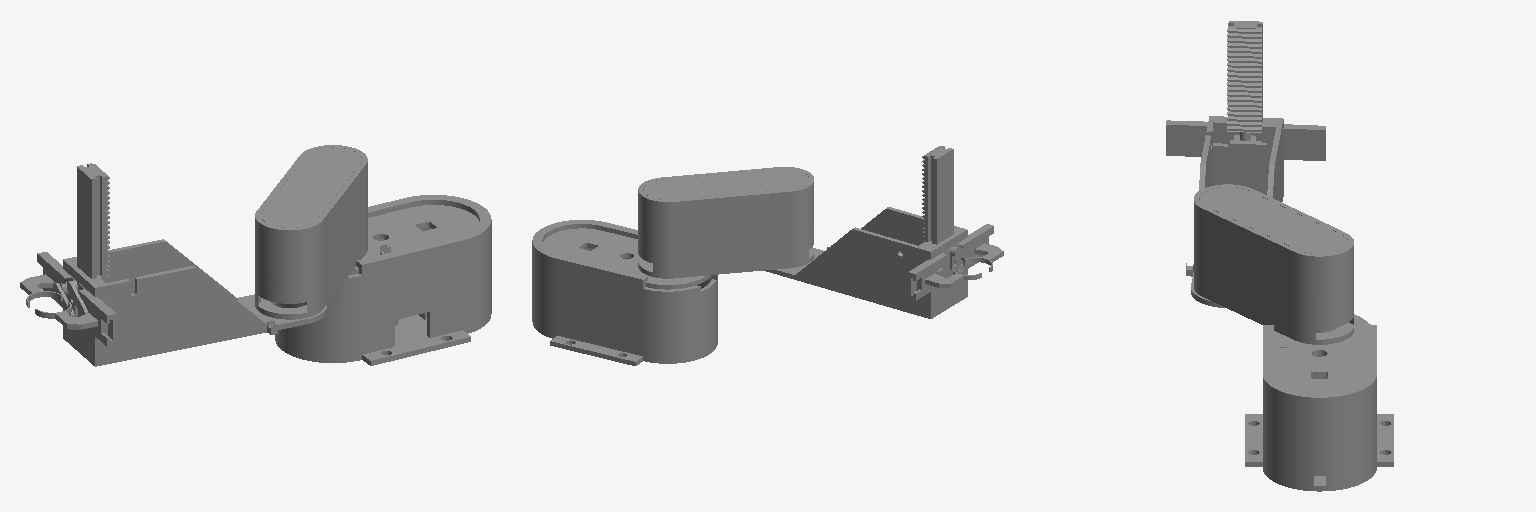
URDF robot description (Robrot):
<?xml version="1.0"?>
<robot name="Robrot">

  <!-- sim:=true  -> Gazebo (gz_ros2_control)   |   sim:=false -> RViz con hardware simulado (mock) -->
  
  

  <!-- Materials (shared across all assemblies) -->
  <material name="Acero">
    <color rgba="0.627 0.627 0.627 1.0"/>
  </material>

  <!-- Assembly includes -->

  <!-- Instantiate assemblies -->
  

    <!-- Links -->
    <link name="base_link">
      <inertial>
        <origin xyz="0.052678 0.037753 -0.000515" rpy="0 0 0"/>
        <mass value="3.116656"/>
        <inertia ixx="7.260591e-03" ixy="-2.850225e-04" ixz="-3.842745e-06"
                 iyy="1.452437e-02" iyz="-4.241836e-05" izz="1.401797e-02"/>
      </inertial>
      <visual>
        <origin xyz="0.000000 0.000000 0.000000" rpy="3.141593 0.000000 3.141593"/>
        <geometry>
          <mesh filename="package://Robrot_description/meshes/base_link/base_link.dae" scale="1 1 1"/>
        </geometry>
        <material name="Acero"/>
      </visual>
      <collision>
        <origin xyz="0.000000 0.000000 0.000000" rpy="3.141593 0.000000 3.141593"/>
        <geometry>
          <mesh filename="package://Robrot_description/meshes/base_link/base_link_collision.stl" scale="0.01 0.01 0.01"/>
        </geometry>
      </collision>
    </link>

  
  

    <!-- Links -->
    <link name="Brazo1_Unido">
      <inertial>
        <origin xyz="-0.043622 -0.039114 -0.034607" rpy="0 0 0"/>
        <mass value="2.006378"/>
        <inertia ixx="4.751628e-03" ixy="-2.249996e-03" ixz="7.159921e-05"
                 iyy="5.243393e-03" iyz="6.420102e-05" izz="6.440291e-03"/>
      </inertial>
      <visual>
        <origin xyz="-0.089343 -0.080111 -0.080300" rpy="1.570796 0.000000 0.730973"/>
        <geometry>
          <mesh filename="package://Robrot_description/meshes/Brazo1_Unido/Brazo1_Unido.dae" scale="1 1 1"/>
        </geometry>
        <material name="Acero"/>
      </visual>
      <collision>
        <origin xyz="-0.089343 -0.080111 -0.080300" rpy="1.570796 0.000000 0.730973"/>
        <geometry>
          <mesh filename="package://Robrot_description/meshes/Brazo1_Unido/Brazo1_Unido_collision.stl" scale="0.01 0.01 0.01"/>
        </geometry>
      </collision>
    </link>

  
  

    <!-- Links -->
    <link name="Brazo_2">
      <inertial>
        <origin xyz="-0.131810 0.010778 -0.057606" rpy="0 0 0"/>
        <mass value="1.598018"/>
        <inertia ixx="1.852850e-03" ixy="3.809434e-04" ixz="9.832691e-04"
                 iyy="6.270689e-03" iyz="-9.262016e-05" izz="6.416990e-03"/>
      </inertial>
      <visual>
        <origin xyz="-0.000043 -0.000011 -0.077300" rpy="-1.570796 0.000000 3.061535"/>
        <geometry>
          <mesh filename="package://Robrot_description/meshes/Robrot/Brazo_2.dae" scale="1 1 1"/>
        </geometry>
        <material name="Acero"/>
      </visual>
      <collision>
        <origin xyz="-0.000043 -0.000011 -0.077300" rpy="-1.570796 0.000000 3.061535"/>
        <geometry>
          <mesh filename="package://Robrot_description/meshes/Robrot/Brazo_2_collision.stl" scale="0.01 0.01 0.01"/>
        </geometry>
      </collision>
    </link>

    <link name="Cremallera2">
      <inertial>
        <origin xyz="0.332650 -0.147155 -0.070159" rpy="0 0 0"/>
        <mass value="0.376862"/>
        <inertia ixx="3.488333e-05" ixy="8.573198e-07" ixz="2.093134e-06"
                 iyy="4.512250e-04" iyz="1.211059e-07" izz="4.363203e-04"/>
      </inertial>
      <visual>
        <origin xyz="0.276497 -0.155300 -0.055064" rpy="0.000000 0.000000 0.000000"/>
        <geometry>
          <mesh filename="package://Robrot_description/meshes/Robrot/Cremallera2.dae" scale="1 1 1"/>
        </geometry>
        <material name="Acero"/>
      </visual>
      <collision>
        <origin xyz="0.276497 -0.155300 -0.055064" rpy="0.000000 0.000000 0.000000"/>
        <geometry>
          <mesh filename="package://Robrot_description/meshes/Robrot/Cremallera2_collision.stl" scale="0.01 0.01 0.01"/>
        </geometry>
      </collision>
    </link>

    <link name="carril">
      <inertial>
        <origin xyz="0.000000 0.003439 0.070000" rpy="0 0 0"/>
        <mass value="0.164530"/>
        <inertia ixx="3.010060e-04" ixy="0.000000e+00" ixz="0.000000e+00"
                 iyy="3.164771e-04" iyz="0.000000e+00" izz="1.784704e-05"/>
      </inertial>
      <visual>
        <origin xyz="0.000000 0.000000 0.000000" rpy="0.000000 0.000000 0.000000"/>
        <geometry>
          <mesh filename="package://Robrot_description/meshes/Robrot/carril.dae" scale="1 1 1"/>
        </geometry>
        <material name="Acero"/>
      </visual>
      <collision>
        <origin xyz="0.000000 0.000000 0.000000" rpy="0.000000 0.000000 0.000000"/>
        <geometry>
          <mesh filename="package://Robrot_description/meshes/Robrot/carril_collision.stl" scale="0.01 0.01 0.01"/>
        </geometry>
      </collision>
    </link>

    <link name="union">
      <inertial>
        <origin xyz="0.000000 0.000000 -0.034974" rpy="0 0 0"/>
        <mass value="0.007931"/>
        <inertia ixx="1.000000e-06" ixy="1.645815e-11" ixz="0.000000e+00"
                 iyy="1.000000e-06" iyz="0.000000e+00" izz="1.000000e-06"/>
      </inertial>
      <visual>
        <origin xyz="0.000000 0.013000 -0.036600" rpy="1.570796 0.000000 1.570818"/>
        <geometry>
          <mesh filename="package://Robrot_description/meshes/Robrot/union.dae" scale="1 1 1"/>
        </geometry>
        <material name="Acero"/>
      </visual>
      <collision>
        <origin xyz="0.000000 0.013000 -0.036600" rpy="1.570796 0.000000 1.570818"/>
        <geometry>
          <mesh filename="package://Robrot_description/meshes/Robrot/union_collision.stl" scale="0.01 0.01 0.01"/>
        </geometry>
      </collision>
    </link>

    <link name="Robrot_grip">
      <inertial>
        <origin xyz="0.302010 -0.035467 -0.122953" rpy="0 0 0"/>
        <mass value="0.055148"/>
        <inertia ixx="7.634863e-06" ixy="-1.453665e-06" ixz="0.000000e+00"
                 iyy="7.425783e-06" iyz="0.000000e+00" izz="1.341919e-05"/>
      </inertial>
      <visual>
        <origin xyz="0.296992 -0.046600 -0.122953" rpy="0.000000 0.000000 0.000000"/>
        <geometry>
          <mesh filename="package://Robrot_description/meshes/Robrot/Robrot_grip.dae" scale="1 1 1"/>
        </geometry>
        <material name="Acero"/>
      </visual>
      <collision>
        <origin xyz="0.296992 -0.046600 -0.122953" rpy="0.000000 0.000000 0.000000"/>
        <geometry>
          <mesh filename="package://Robrot_description/meshes/Robrot/Robrot_grip_collision.stl" scale="0.01 0.01 0.01"/>
        </geometry>
      </collision>
    </link>

    <link name="Robrot_grip_2">
      <inertial>
        <origin xyz="0.292603 -0.035467 -0.005709" rpy="0 0 0"/>
        <mass value="0.055148"/>
        <inertia ixx="7.634863e-06" ixy="-1.453665e-06" ixz="0.000000e+00"
                 iyy="7.425783e-06" iyz="0.000000e+00" izz="1.341919e-05"/>
      </inertial>
      <visual>
        <origin xyz="0.287586 -0.046600 -0.005709" rpy="0.000000 0.000000 0.000000"/>
        <geometry>
          <mesh filename="package://Robrot_description/meshes/Robrot/Robrot_grip_2.dae" scale="1 1 1"/>
        </geometry>
        <material name="Acero"/>
      </visual>
      <collision>
        <origin xyz="0.287586 -0.046600 -0.005709" rpy="0.000000 0.000000 0.000000"/>
        <geometry>
          <mesh filename="package://Robrot_description/meshes/Robrot/Robrot_grip_2_collision.stl" scale="0.01 0.01 0.01"/>
        </geometry>
      </collision>
    </link>

    <link name="Robrot_guarda_2">
      <inertial>
        <origin xyz="0.315908 -0.051277 -0.035100" rpy="0 0 0"/>
        <mass value="0.008582"/>
        <inertia ixx="1.000000e-06" ixy="3.631986e-07" ixz="0.000000e+00"
                 iyy="1.000000e-06" iyz="0.000000e+00" izz="1.070499e-06"/>
      </inertial>
      <visual>
        <origin xyz="0.311402 -0.049110 -0.036600" rpy="1.570796 0.000000 -0.448188"/>
        <geometry>
          <mesh filename="package://Robrot_description/meshes/Robrot/Robrot_guarda_2.dae" scale="1 1 1"/>
        </geometry>
        <material name="Acero"/>
      </visual>
      <collision>
        <origin xyz="0.311402 -0.049110 -0.036600" rpy="1.570796 0.000000 -0.448188"/>
        <geometry>
          <mesh filename="package://Robrot_description/meshes/Robrot/Robrot_guarda_2_collision.stl" scale="0.01 0.01 0.01"/>
        </geometry>
      </collision>
    </link>

    <link name="Robrot_guarda">
      <inertial>
        <origin xyz="0.288654 -0.097980 -0.035100" rpy="0 0 0"/>
        <mass value="0.008582"/>
        <inertia ixx="1.000000e-06" ixy="3.631986e-07" ixz="0.000000e+00"
                 iyy="1.000000e-06" iyz="0.000000e+00" izz="1.070499e-06"/>
      </inertial>
      <visual>
        <origin xyz="0.284148 -0.095813 -0.036600" rpy="1.570796 0.000000 -0.448188"/>
        <geometry>
          <mesh filename="package://Robrot_description/meshes/Robrot/Robrot_guarda.dae" scale="1 1 1"/>
        </geometry>
        <material name="Acero"/>
      </visual>
      <collision>
        <origin xyz="0.284148 -0.095813 -0.036600" rpy="1.570796 0.000000 -0.448188"/>
        <geometry>
          <mesh filename="package://Robrot_description/meshes/Robrot/Robrot_guarda_collision.stl" scale="0.01 0.01 0.01"/>
        </geometry>
      </collision>
    </link>

    <!-- Joints (internal to assembly) -->
    <!-- Corregido como el robot real: d3 positivo = la cremallera BAJA.
         d3 = 0.085 -> abajo del todo (home, final de carrera de Z); d3 = 0 -> 85 mm mas arriba. -->
    <joint name="Corredera_9" type="prismatic">
      <parent link="Brazo_2"/>
      <child link="Cremallera2"/>
      <origin xyz="-0.046614 -0.066564 0.362697" rpy="1.650854 1.570796 0.000000"/>
      <axis xyz="1.000000 0.000000 0.000000"/>
      <limit lower="0.000000" upper="0.085000" effort="100.0" velocity="0.15"/>
    </joint>

    <joint name="R_gida_11" type="fixed">
      <parent link="Cremallera2"/>
      <child link="carril"/>
      <origin xyz="0.395197 -0.157958 0.000436" rpy="-3.141593 0.000000 0.000000"/>
    </joint>

    <!-- Corregido: el eje del servo pasa por el centro de su brazo (antes estaba ~30 cm afuera). -->
    <joint name="Revoluci_n_12" type="revolute">
      <parent link="carril"/>
      <child link="union"/>
      <origin xyz="0.000000 0.042600 0.070000" rpy="-1.570796 -1.570796 0.000000"/>
      <axis xyz="0.000000 0.000000 1.000000"/>
      <limit lower="0.000000" upper="1.570796" effort="100.0" velocity="0.20"/>
    </joint>

    <!-- Dedo de la pinza: 0 = cerrada, positivo = abre (hacia afuera). -->
    <joint name="Corredera_13" type="prismatic">
      <parent link="carril"/>
      <child link="Robrot_grip"/>
      <origin xyz="-0.122953 0.049600 -0.270802" rpy="0.000000 -1.570796 0.000000"/>
      <axis xyz="-1.000000 0.000000 0.000000"/>
      <limit lower="0.000000" upper="0.018000" effort="100.0" velocity="0.15"/>
    </joint>

    <!-- Dedo de la pinza: 0 = cerrada, positivo = abre (hacia afuera). -->
    <joint name="Corredera_14" type="prismatic">
      <parent link="carril"/>
      <child link="Robrot_grip_2"/>
      <origin xyz="0.005709 0.049600 0.401396" rpy="0.000000 1.570796 0.000000"/>
      <axis xyz="-1.000000 0.000000 0.000000"/>
      <limit lower="0.000000" upper="0.018000" effort="100.0" velocity="0.15"/>
    </joint>

    <!-- Biela de la pinza: fija al dedo (antes giraba libre y caia por gravedad). -->
    <joint name="Revoluci_n_15" type="fixed">
      <parent link="Robrot_grip"/>
      <child link="Robrot_guarda_2"/>
      <origin xyz="0.011376 -0.004000 -0.167730" rpy="-1.570796 0.000000 0.000000"/>
    </joint>

    <!-- Biela de la pinza: fija al dedo (antes giraba libre y caia por gravedad). -->
    <joint name="Revoluci_n_17" type="fixed">
      <parent link="Robrot_grip_2"/>
      <child link="Robrot_guarda"/>
      <origin xyz="0.606532 -0.004000 0.098771" rpy="1.570796 0.000000 -3.141593"/>
    </joint>

  

  <!-- Mount joints (cross-assembly connections) -->
  <!-- These define how assemblies connect to each other. -->
  <!-- When swapping a dummy assembly with a real part, -->
  <!-- update the include + macro call above, and adjust -->
  <!-- parent/child link names in the mount joint below. -->

  <!-- Corrección de orientación: el CAD viene con Y hacia arriba (Fusion).
       Este link "world" gira TODO el robot +90° en X para que Y pase a ser Z (arriba). -->
  <link name="world"/>
  <joint name="world_to_base" type="fixed">
    <parent link="world"/>
    <child link="base_link"/>
    <origin xyz="0 0 0" rpy="1.570796 0 0"/>
  </joint>

  <joint name="Revoluci_n_6" type="revolute">
    <parent link="base_link"/>
    <child link="Brazo1_Unido"/>
    <origin xyz="0.000000 0.159100 0.000000" rpy="-1.570796 0.000000 0.000000"/>
    <axis xyz="0.000000 0.000000 1.000000"/>
    <!-- limites reales: +46.1 grados = final de carrera del hombro (izquierda), -79.9 = tope derecho -->
    <limit lower="-1.394000" upper="0.804000" effort="100.0" velocity="0.20"/>
  </joint>

  <joint name="Revoluci_n_7" type="revolute">
    <parent link="Brazo1_Unido"/>
    <child link="Brazo_2"/>
    <origin xyz="-0.089300 -0.080100 0.000000" rpy="0.000000 0.000000 0.000000"/>
    <axis xyz="0.000000 0.000000 1.000000"/>
    <!-- limites reales: +134.5 grados = final de carrera del codo (izquierda); -45.5 = 180 grados mas alla (provisional) -->
    <limit lower="-0.794000" upper="2.347000" effort="100.0" velocity="0.20"/>
  </joint>

  <!-- ===================== ros2_control (un solo sistema para todo el robot) ===================== -->
  <!-- 6 joints: brazo (Revoluci_n_6, Revoluci_n_7, Corredera_9) + pinza (servo Revoluci_n_12 y dedos Corredera_13/14) -->
  <ros2_control name="Robrot_system" type="system">
    <hardware>
      
      
        <plugin>mock_components/GenericSystem</plugin>
      
    </hardware>
    <joint name="Revoluci_n_6">
      <command_interface name="position"/>
      <command_interface name="velocity"/>
      <state_interface name="position">
        <param name="initial_value">0.0</param>
      </state_interface>
      <state_interface name="velocity"/>
      <state_interface name="effort"/>
    </joint>
    <joint name="Revoluci_n_7">
      <command_interface name="position"/>
      <command_interface name="velocity"/>
      <state_interface name="position">
        <param name="initial_value">0.0</param>
      </state_interface>
      <state_interface name="velocity"/>
      <state_interface name="effort"/>
    </joint>
    <joint name="Corredera_9">
      <command_interface name="position"/>
      <command_interface name="velocity"/>
      <state_interface name="position">
        <param name="initial_value">0.080</param>
      </state_interface>
      <state_interface name="velocity"/>
      <state_interface name="effort"/>
    </joint>
    <joint name="Revoluci_n_12">
      <command_interface name="position"/>
      <command_interface name="velocity"/>
      <state_interface name="position">
        <param name="initial_value">0.0</param>
      </state_interface>
      <state_interface name="velocity"/>
      <state_interface name="effort"/>
    </joint>
    <joint name="Corredera_13">
      <command_interface name="position"/>
      <command_interface name="velocity"/>
      <state_interface name="position">
        <param name="initial_value">0.0</param>
      </state_interface>
      <state_interface name="velocity"/>
      <state_interface name="effort"/>
    </joint>
    <joint name="Corredera_14">
      <command_interface name="position"/>
      <command_interface name="velocity"/>
      <state_interface name="position">
        <param name="initial_value">0.0</param>
      </state_interface>
      <state_interface name="velocity"/>
      <state_interface name="effort"/>
    </joint>
  </ros2_control>

  <!-- ===================== Plugin de Gazebo (solo con sim:=true) ===================== -->
  

</robot>

--- Facts derived from the render (not from the file) ---
Views: 3 orthographic renders of the robot side by side, from view 1: azimuth 30°, elevation 25°; view 2: azimuth 150°, elevation 25°; view 3: azimuth 270°, elevation 25°.
Model Robrot with 11 links and 10 joints (3 revolute, 3 prismatic, 4 fixed), rooted at world, posed all joints at 0.
Links seen in each view (by area): view 1: base_link, Brazo1_Unido, Brazo_2, Cremallera2, carril, Robrot_grip, Robrot_grip_2; view 2: base_link, Brazo1_Unido, Brazo_2, Cremallera2, carril, Robrot_grip_2, Robrot_grip; view 3: Brazo1_Unido, base_link, Brazo_2, Cremallera2, carril.
Boxes of the visible links, x1=… form: base_link: x1=275, y1=195, x2=491, y2=365; Brazo1_Unido: x1=255, y1=145, x2=367, y2=319; Brazo_2: x1=63, y1=239, x2=326, y2=366; Cremallera2: x1=77, y1=163, x2=109, y2=281; carril: x1=37, y1=252, x2=115, y2=346; Robrot_grip: x1=35, y1=302, x2=107, y2=335; Robrot_grip_2: x1=20, y1=267, x2=68, y2=307; base_link: x1=532, y1=220, x2=717, y2=365; Brazo1_Unido: x1=638, y1=167, x2=813, y2=278; Brazo_2: x1=764, y1=207, x2=967, y2=318; Cremallera2: x1=922, y1=146, x2=953, y2=244; carril: x1=908, y1=224, x2=993, y2=300; Robrot_grip_2: x1=917, y1=265, x2=981, y2=290; Robrot_grip: x1=961, y1=237, x2=1003, y2=271; Brazo1_Unido: x1=1194, y1=184, x2=1353, y2=344; base_link: x1=1245, y1=314, x2=1393, y2=491; Brazo_2: x1=1186, y1=116, x2=1283, y2=307; Cremallera2: x1=1227, y1=21, x2=1266, y2=162; carril: x1=1166, y1=120, x2=1325, y2=160.
Size in the robot's own frame: 0.4857 by 0.1995 by 0.2503 metres.
10 mesh visuals loaded from 10 distinct referenced files (10 Collada DAE).
